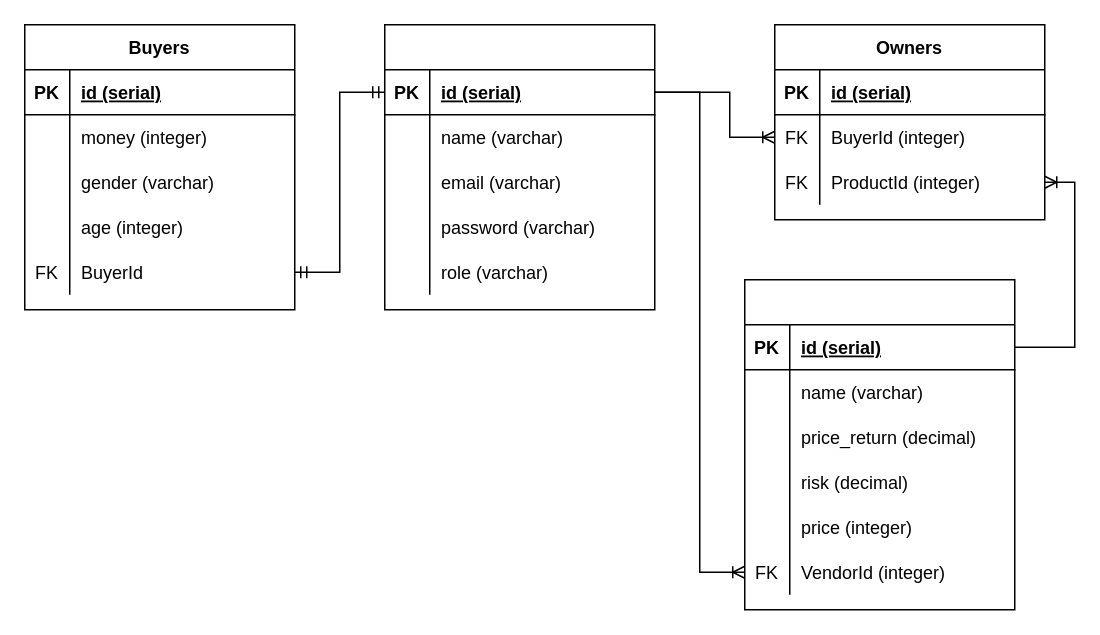
Some shapes in this 1100 by 635 pixel diagram are drawn without their labels. Each missing label, with the box of its shape:
Products: (743, 278, 1015, 610)
Users: (383, 23, 655, 310)
